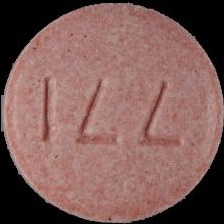42291-665: (0, 0, 224, 224)
